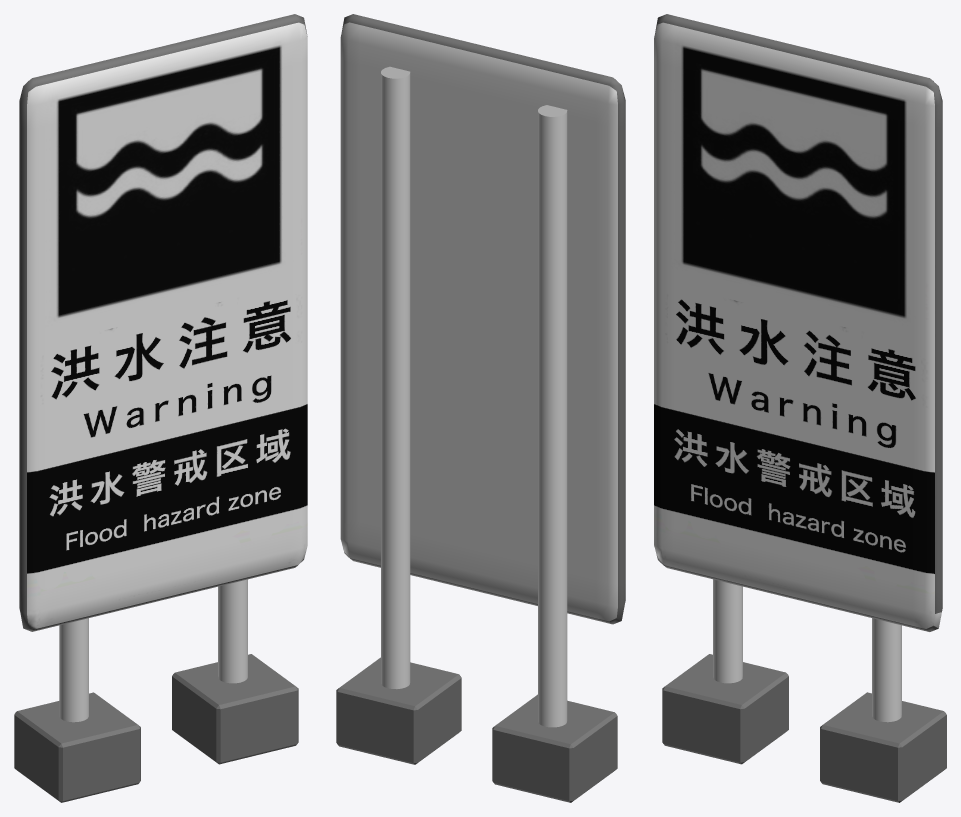
The model's file is Kozui.fbx.
3 views of the same model, side by side, from view 1: azimuth 30°, elevation 25°; view 2: azimuth 150°, elevation 25°; view 3: azimuth 330°, elevation 25° (orthographic).
Visible parts, largest first — view 1: Kouzui_W1, Dodai3_pCube5; view 2: Kouzui_W1, Dodai3_pCube5; view 3: Kouzui_W1, Dodai3_pCube5.
Part boxes in pixels (left/top/right/bottom): Kouzui_W1: left=19, top=14, right=307, bottom=631; Dodai3_pCube5: left=14, top=579, right=298, bottom=802; Kouzui_W1: left=340, top=14, right=625, bottom=624; Dodai3_pCube5: left=336, top=66, right=617, bottom=802; Kouzui_W1: left=654, top=14, right=942, bottom=631; Dodai3_pCube5: left=662, top=579, right=946, bottom=802.
Size of the model in its own units: 0.4493 by 1.07 by 0.1292.
Materials: 4 (1 with a texture image).
